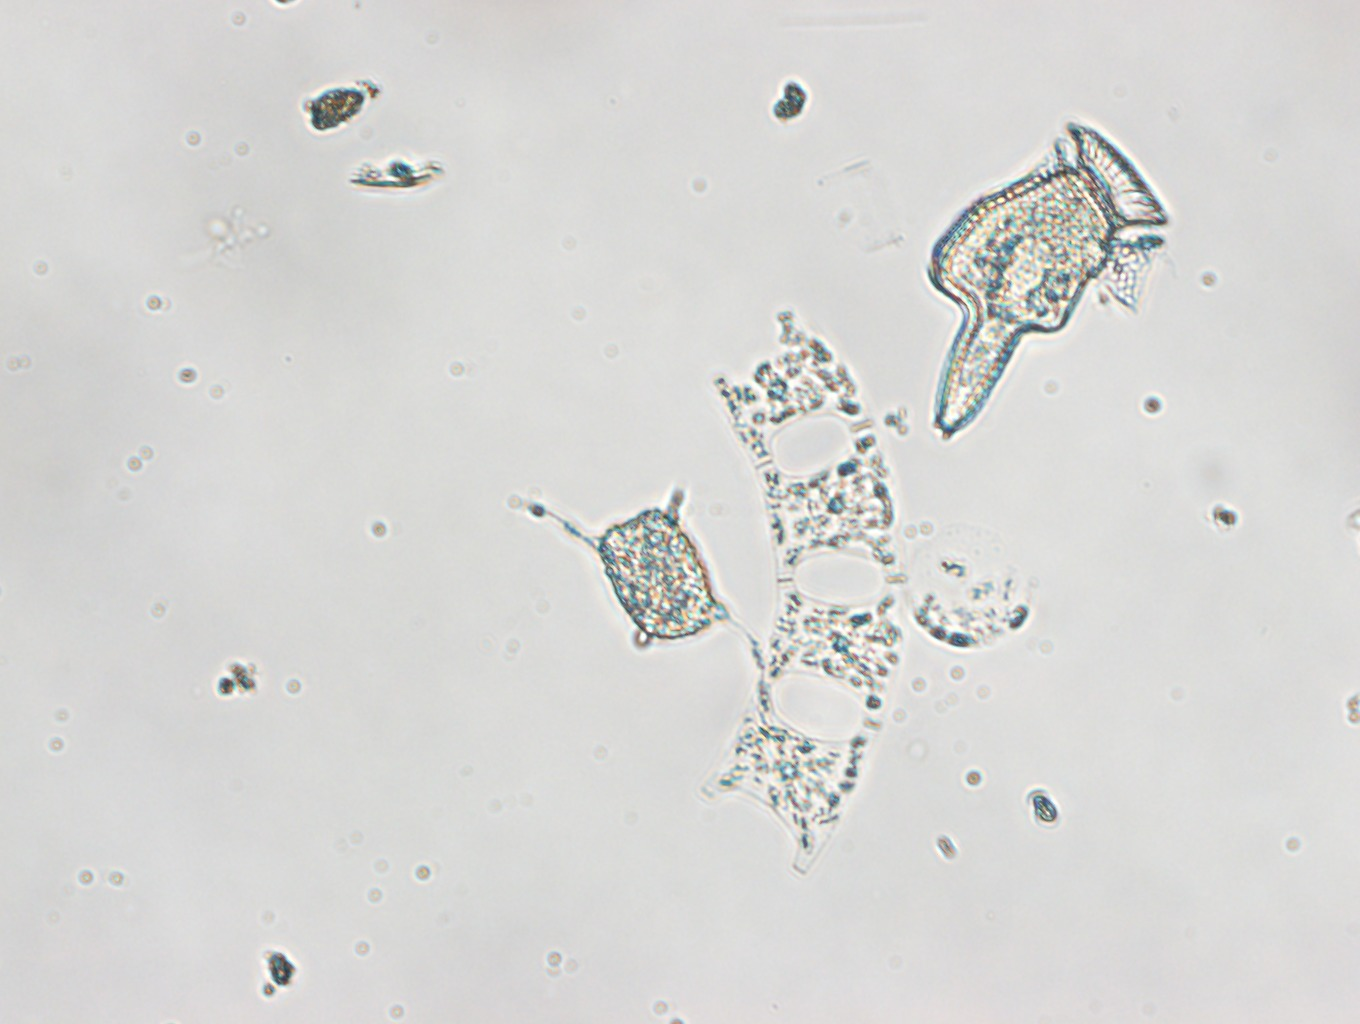dinophysis caudata: (926, 120, 1171, 441)
eucampia: (697, 328, 907, 874)
